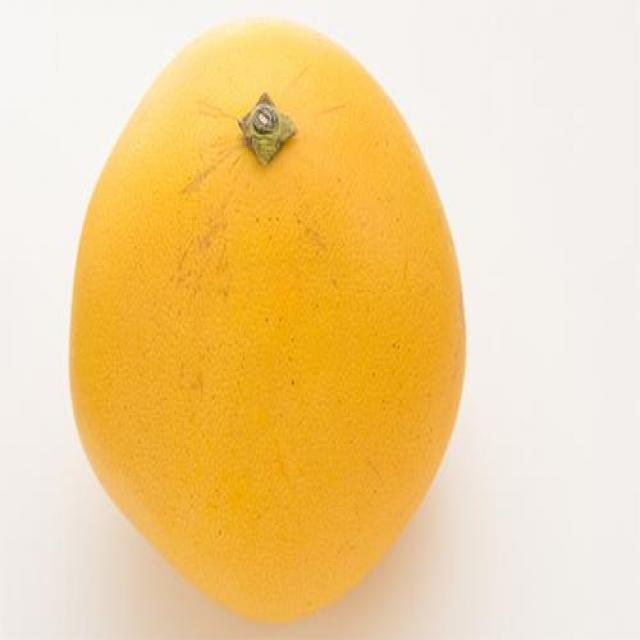Orange: (62, 23, 466, 628)
